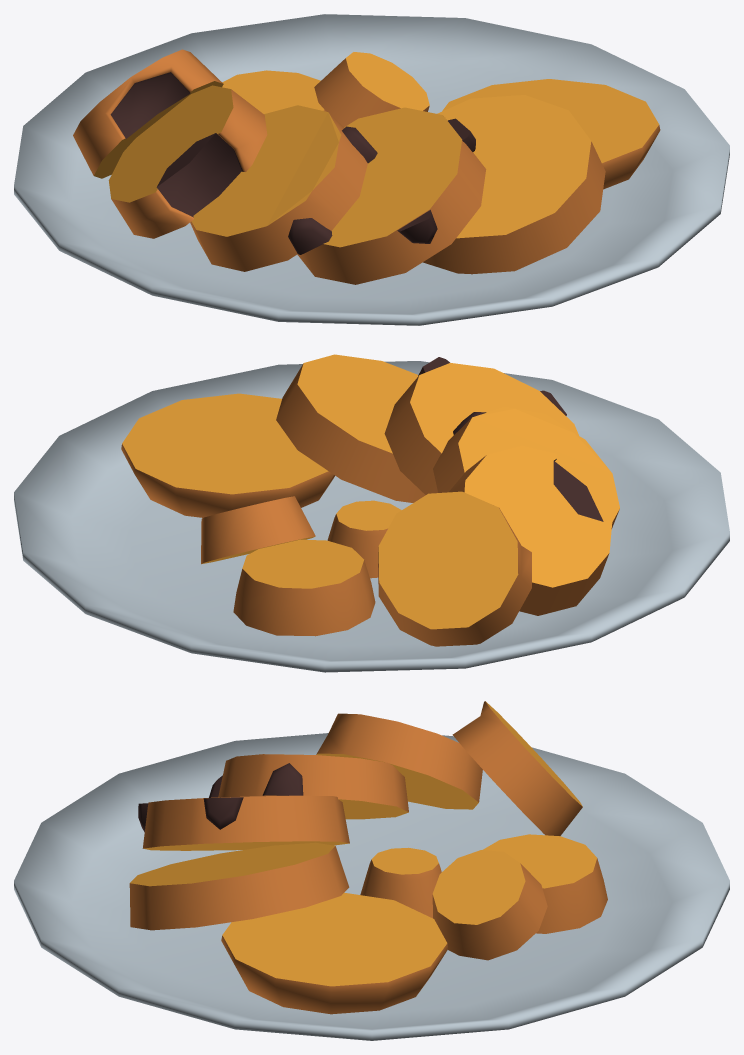
The model's file is alchemy_carrot_chopped.fbx.
The picture shows the model from 3 angles, top to bottom: view 1: azimuth 30°, elevation 25°; view 2: azimuth 150°, elevation 25°; view 3: azimuth 270°, elevation 25°; orthographic projection.
Parts seen in each view (by area): view 1: Carrot_Sliced; view 2: Carrot_Sliced; view 3: Carrot_Sliced.
Part boxes in pixels (<box>): Carrot_Sliced: <box>14,14,729,325</box>; Carrot_Sliced: <box>14,354,729,672</box>; Carrot_Sliced: <box>14,701,729,1040</box>.
Bounding box in the file's own units: 1383 × 1383 × 322.
